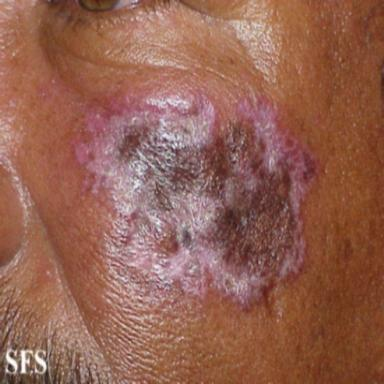Lupus-Erythematosus-Chronicus-Discoides: (75, 94, 316, 307)
